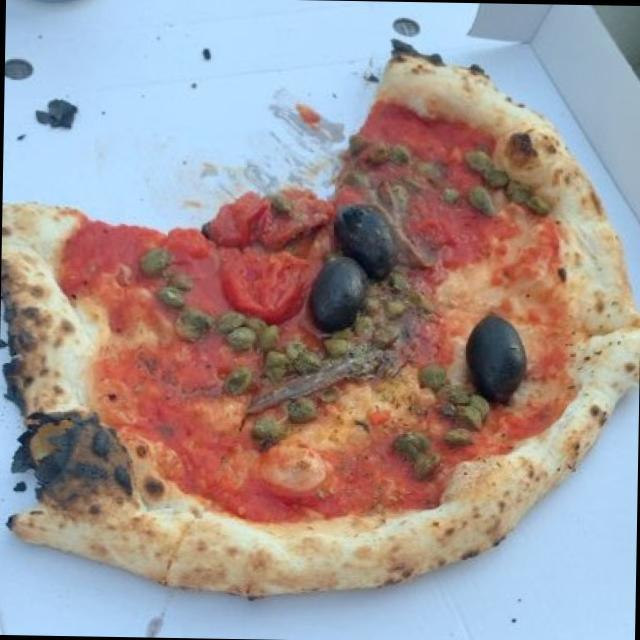Pizza: (0, 17, 640, 616)
